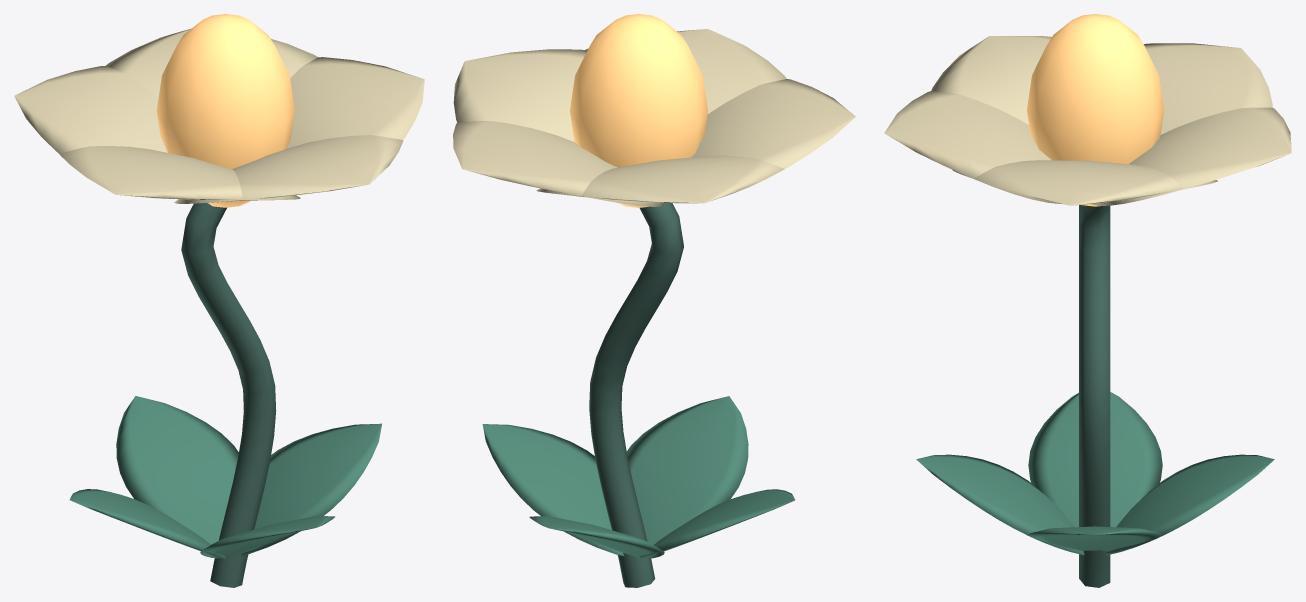
File: lantern-bloom.glb
3 views of the same model, side by side, from view 1: azimuth 30°, elevation 25°; view 2: azimuth 150°, elevation 25°; view 3: azimuth 270°, elevation 25° (orthographic).
Visible parts, largest first — view 1: Vesper / lantern-bloom; view 2: Vesper / lantern-bloom; view 3: Vesper / lantern-bloom.
Part boxes in pixels (box(x1,y1,x2,y2)): Vesper / lantern-bloom: box(14, 14, 424, 587); Vesper / lantern-bloom: box(453, 14, 855, 587); Vesper / lantern-bloom: box(884, 14, 1291, 587).
Bounding box in the file's own units: 1.59 × 2.44 × 1.6.
